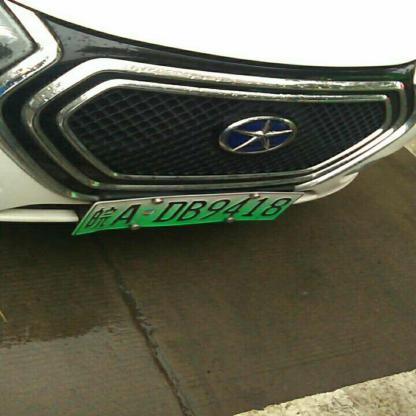lp: (75, 192, 302, 235)
